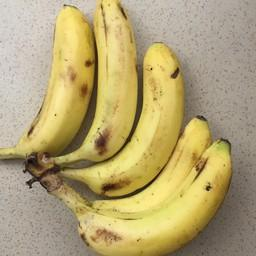Banana Ripe: (28, 141, 236, 256), (72, 28, 178, 213), (53, 110, 213, 222), (10, 4, 98, 175), (66, 0, 141, 184)
